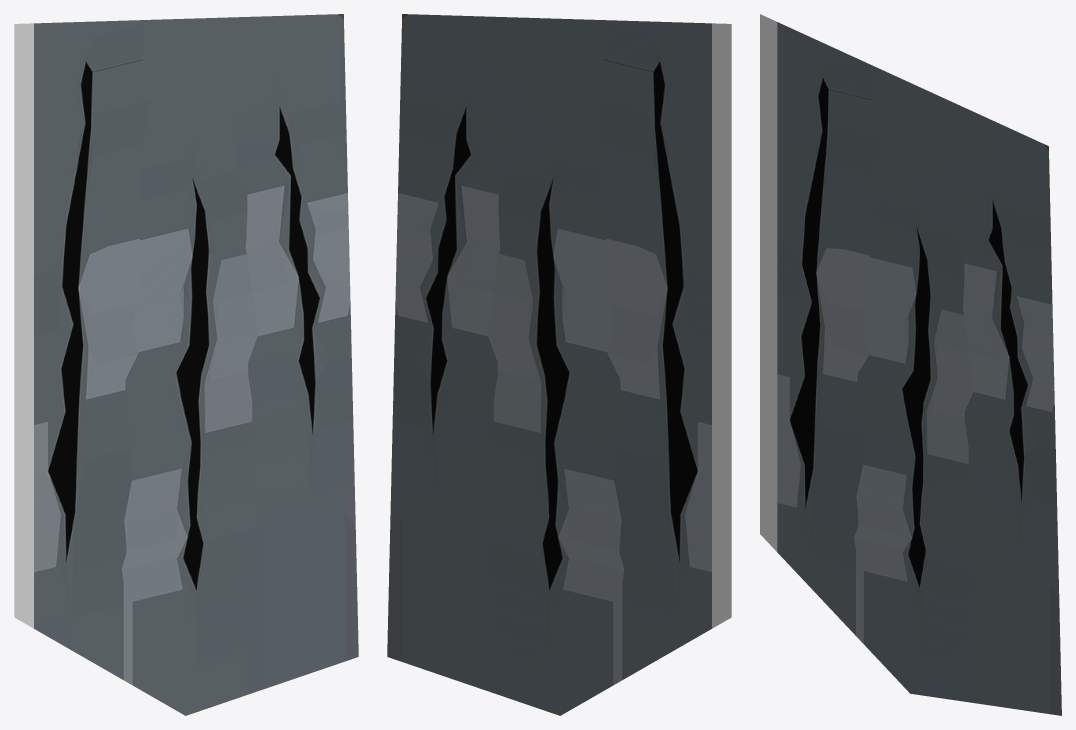
Rendered from SM_Prop_Decal_Metal_10.fbx.
3 renders of one model, left to right at view 1: azimuth 30°, elevation 25°; view 2: azimuth 150°, elevation 25°; view 3: azimuth 330°, elevation 25°, orthographic. The views are drawn at different scales.
Parts seen in each view (by area): view 1: SM_Prop_Decal_Metal_10; view 2: SM_Prop_Decal_Metal_10; view 3: SM_Prop_Decal_Metal_10.
Boxes of the visible parts, x1,y1,x2,y2 form: SM_Prop_Decal_Metal_10: [14, 14, 358, 715]; SM_Prop_Decal_Metal_10: [387, 14, 731, 715]; SM_Prop_Decal_Metal_10: [760, 14, 1061, 715].
Size of the model in its own units: 39.69 by 80.77 by 0.
